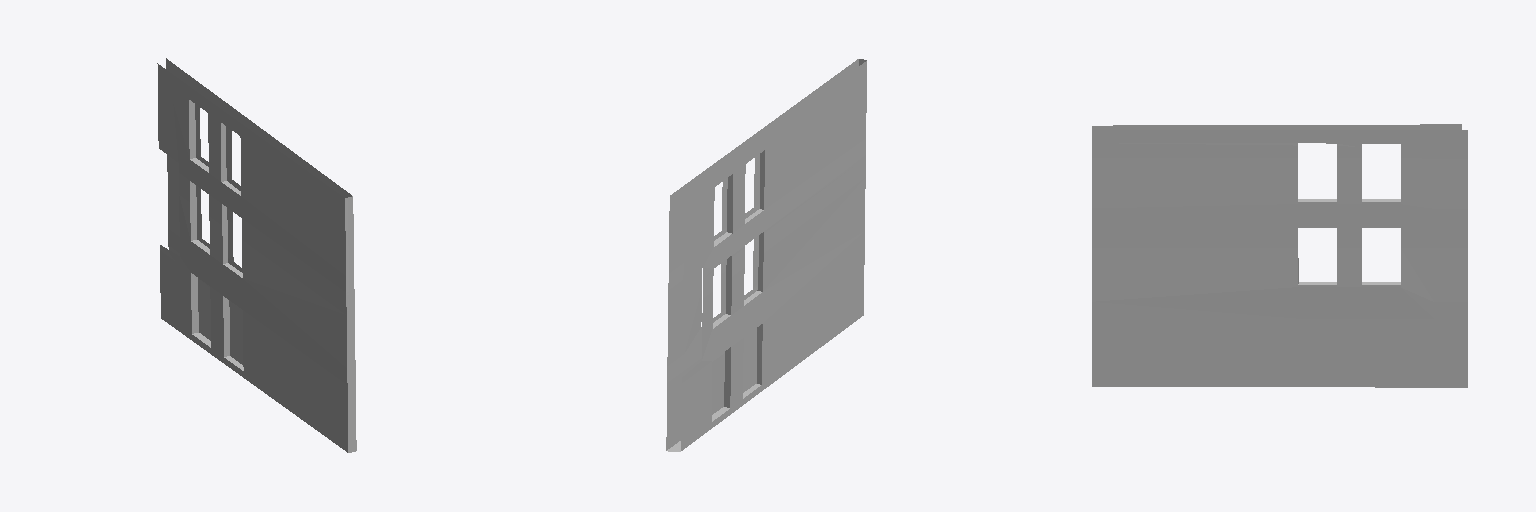
The model's file is SM_HOTEL_mur_D.obj.
3 renders of one model, left to right at view 1: azimuth 30°, elevation 25°; view 2: azimuth 150°, elevation 25°; view 3: azimuth 270°, elevation 25°, orthographic.
Parts seen in each view (by area): view 1: SM_HOTEL_mur_D:SM_HOTEL_murs_geo; view 2: SM_HOTEL_mur_D:SM_HOTEL_murs_geo; view 3: SM_HOTEL_mur_D:SM_HOTEL_murs_geo.
Boxes of the visible parts, <box> form: SM_HOTEL_mur_D:SM_HOTEL_murs_geo: <box>157,58,356,452</box>; SM_HOTEL_mur_D:SM_HOTEL_murs_geo: <box>666,59,866,451</box>; SM_HOTEL_mur_D:SM_HOTEL_murs_geo: <box>1092,124,1467,387</box>.
Bounding box in the file's own units: 72.85 × 1183 × 1577.